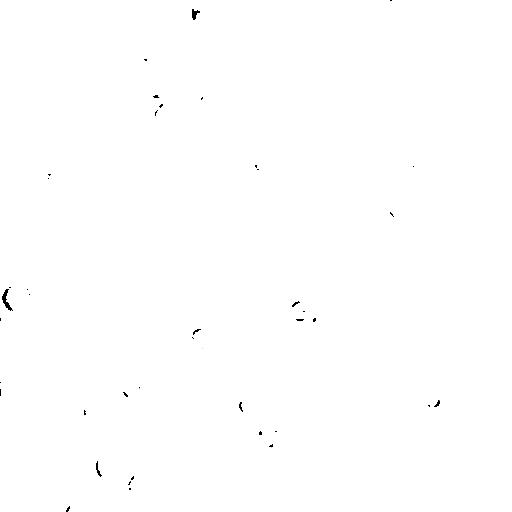micro-algae: (229, 11, 269, 59), (414, 453, 450, 489), (413, 381, 449, 415), (454, 41, 485, 74), (255, 197, 285, 229), (215, 45, 245, 75), (134, 42, 163, 70), (177, 0, 206, 27), (3, 282, 30, 311), (165, 272, 195, 297), (189, 4, 214, 33), (289, 297, 318, 322), (363, 417, 389, 444), (419, 435, 444, 462), (341, 304, 371, 326), (163, 451, 188, 477), (188, 326, 216, 349), (15, 0, 40, 25), (297, 307, 325, 329), (257, 415, 283, 437), (417, 109, 439, 134), (127, 473, 151, 495), (95, 453, 115, 479), (199, 88, 221, 111), (257, 431, 279, 452), (49, 417, 65, 445), (82, 397, 99, 423), (401, 148, 423, 168), (123, 377, 143, 399), (239, 393, 257, 417), (375, 0, 405, 12), (390, 203, 409, 221), (422, 0, 454, 9), (5, 155, 21, 173), (154, 103, 169, 122), (254, 153, 269, 172), (130, 311, 146, 328), (1, 373, 13, 395), (141, 337, 157, 353), (61, 501, 82, 512), (62, 277, 77, 291), (37, 169, 53, 179)
